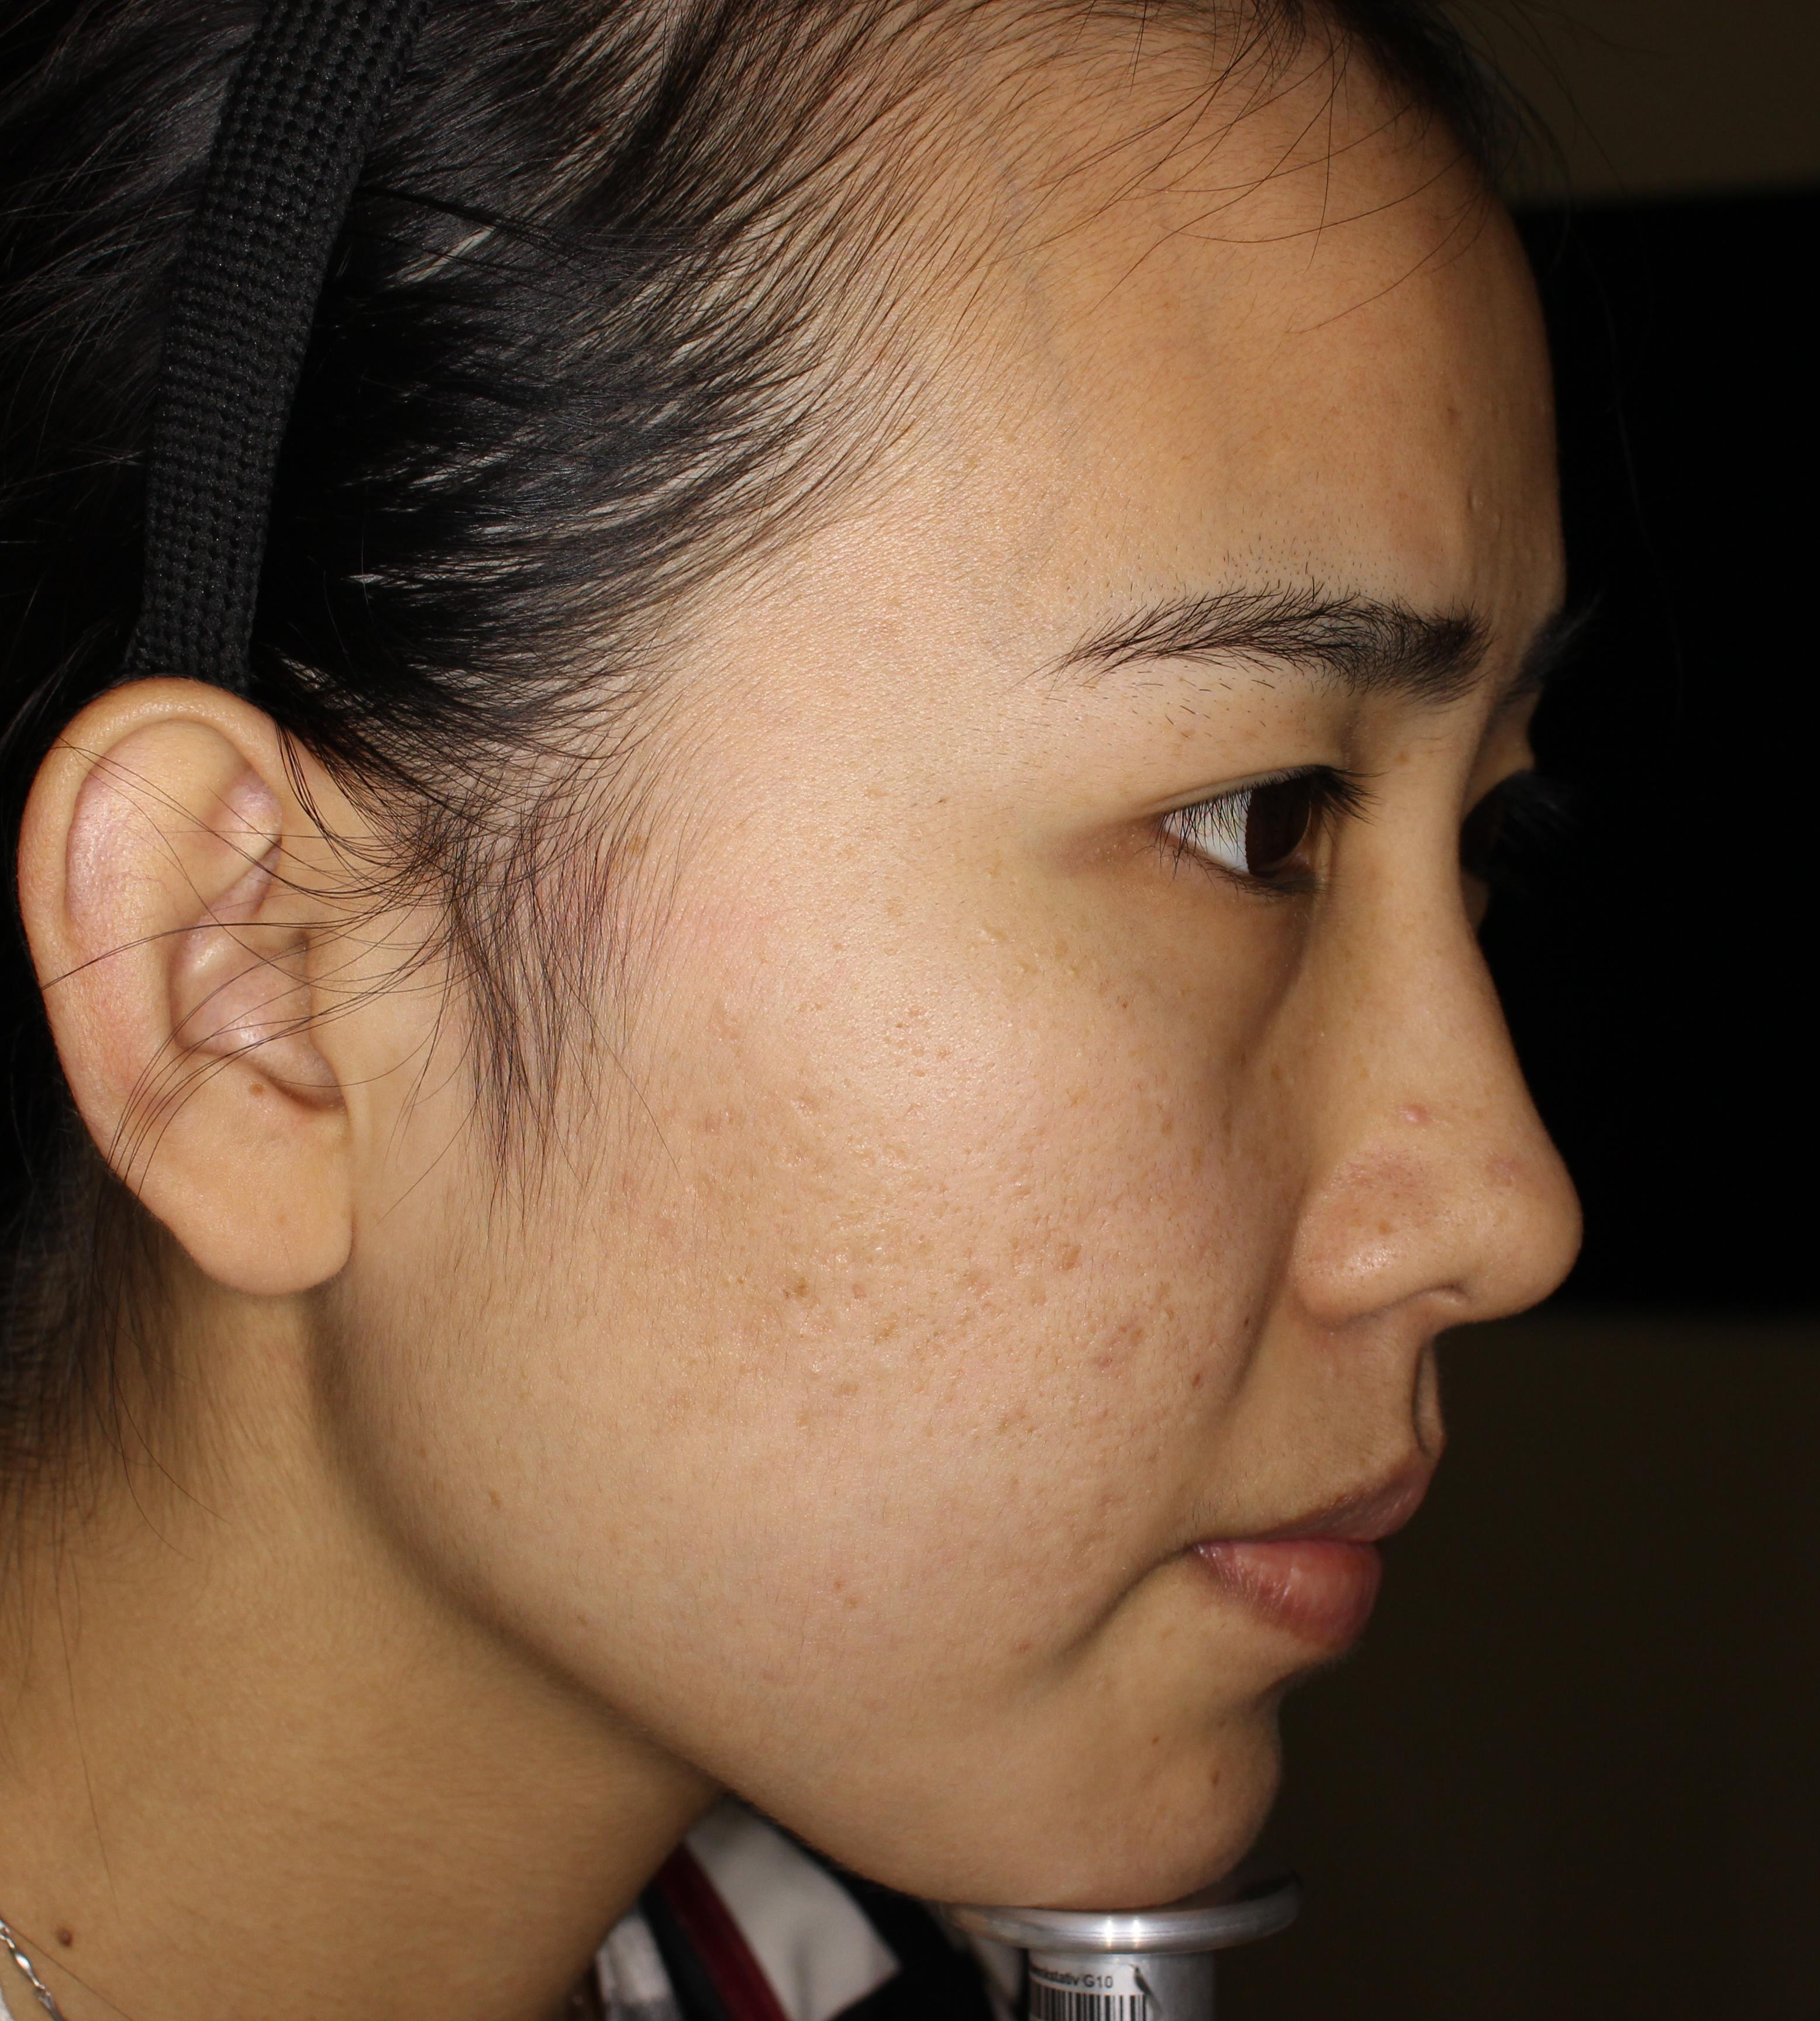fore: (1369, 1075, 1462, 1155)
